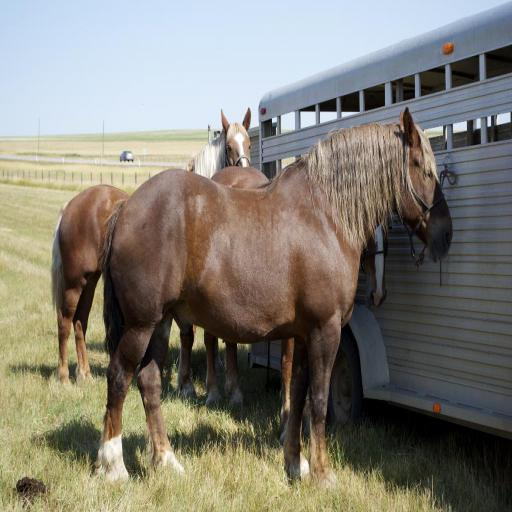horse: (92, 104, 456, 484), (50, 106, 256, 389), (200, 163, 390, 442)
